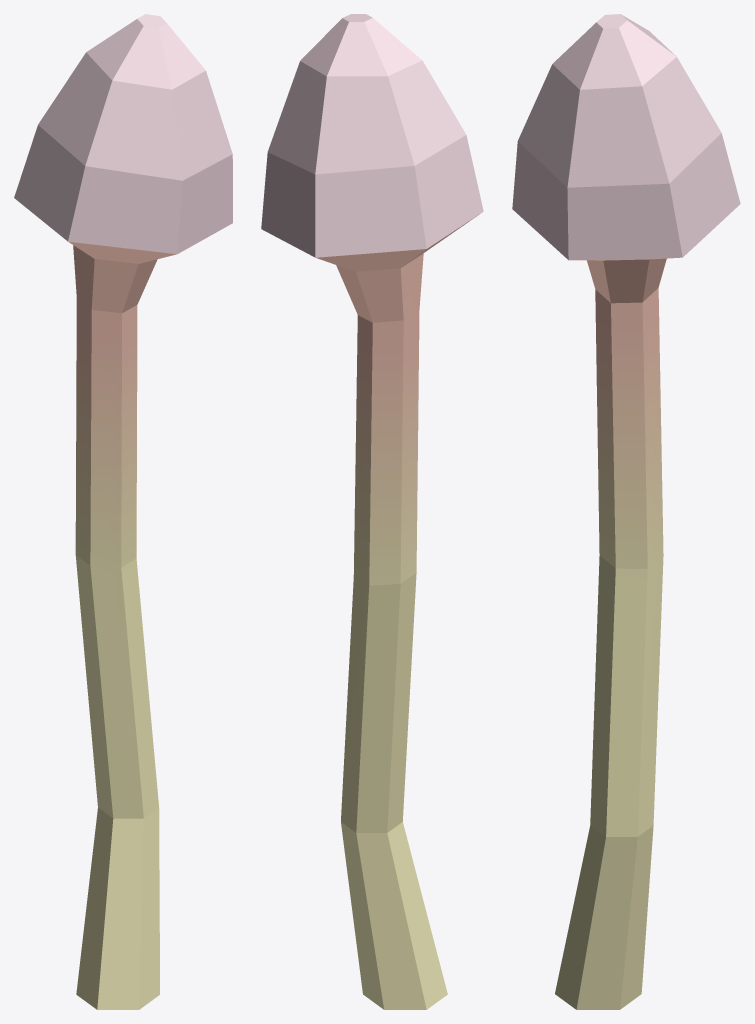
File: mushroom_010.fbx
3 renders of one model, left to right at view 1: azimuth 30°, elevation 25°; view 2: azimuth 150°, elevation 25°; view 3: azimuth 270°, elevation 25°, orthographic. The views are drawn at different scales.
Parts seen in each view (by area): view 1: mushroom.010; view 2: mushroom.010; view 3: mushroom.010.
Part boxes in pixels (left/top/right/bottom): mushroom.010: left=14, top=14, right=232, bottom=1009; mushroom.010: left=261, top=14, right=483, bottom=1009; mushroom.010: left=512, top=14, right=740, bottom=1009.
Size of the model in its own units: 397 by 2202 by 458.
1 material, 1 textured.
